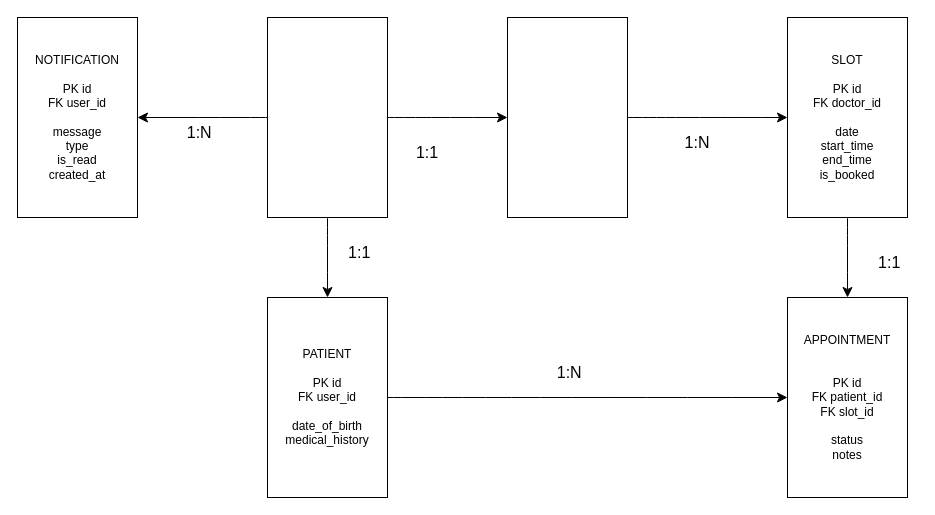
Some shapes in this 935 by 515 pixel diagram are drawn without their labels. The shapes that lost their labels are listed below. From the top down, each one's centre as x and y in pixels, then its label:
At point (327, 117): "USER PK id name email phone role".
At point (567, 117): "DOCTOR PK id FK user_id specialization experience bio".
